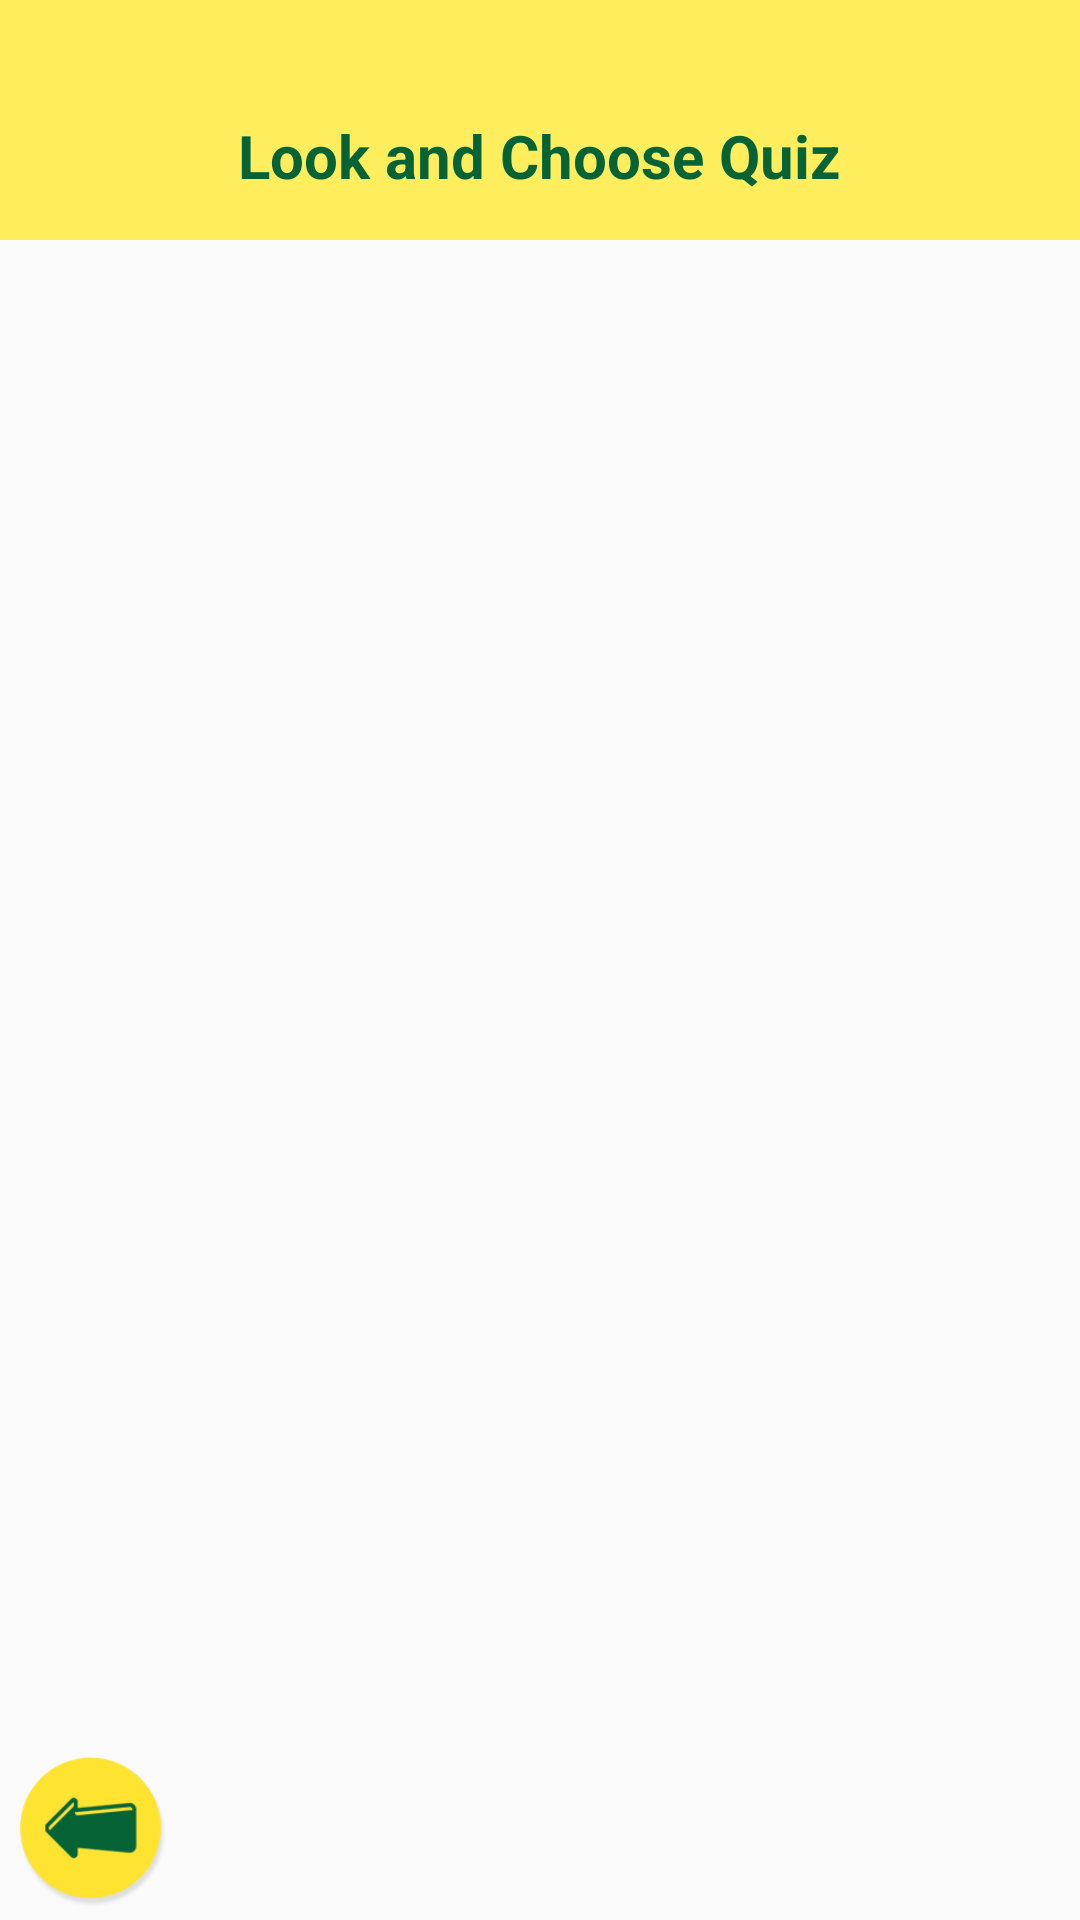

Icons on this 1080px×1920px Android screen, each with the point to tap as (x=x, y=y):
prev: (x=90, y=1829)
